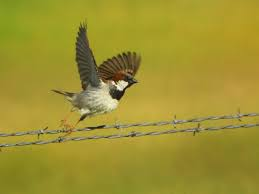hsparrow: (49, 17, 143, 133)
